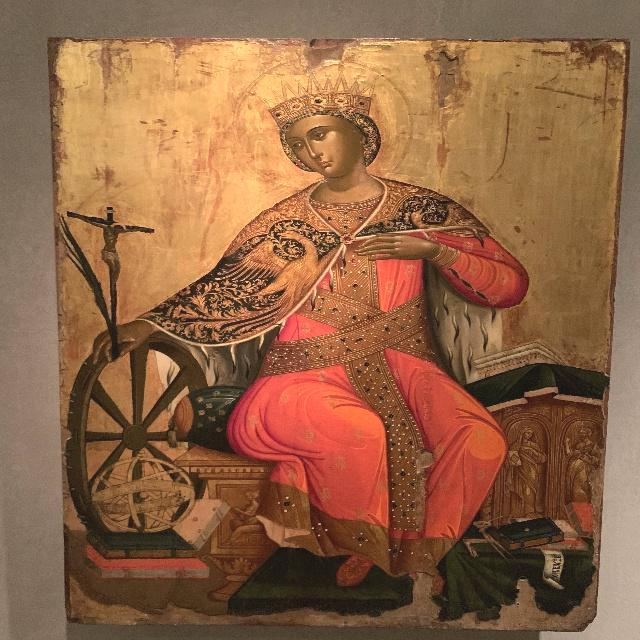aura: (217, 55, 422, 188)
book: (486, 511, 562, 555)
cross: (76, 205, 155, 367)
crown: (264, 73, 380, 125)
orb: (87, 461, 191, 533)
phoenix: (211, 226, 338, 342)
st_catherine: (169, 45, 526, 580)
wheel: (65, 326, 208, 543)
